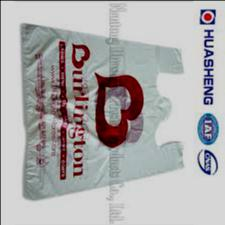Plastic: (14, 31, 197, 207)
